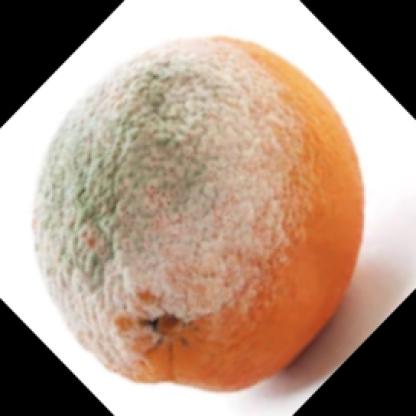rotten: (34, 35, 361, 391)
